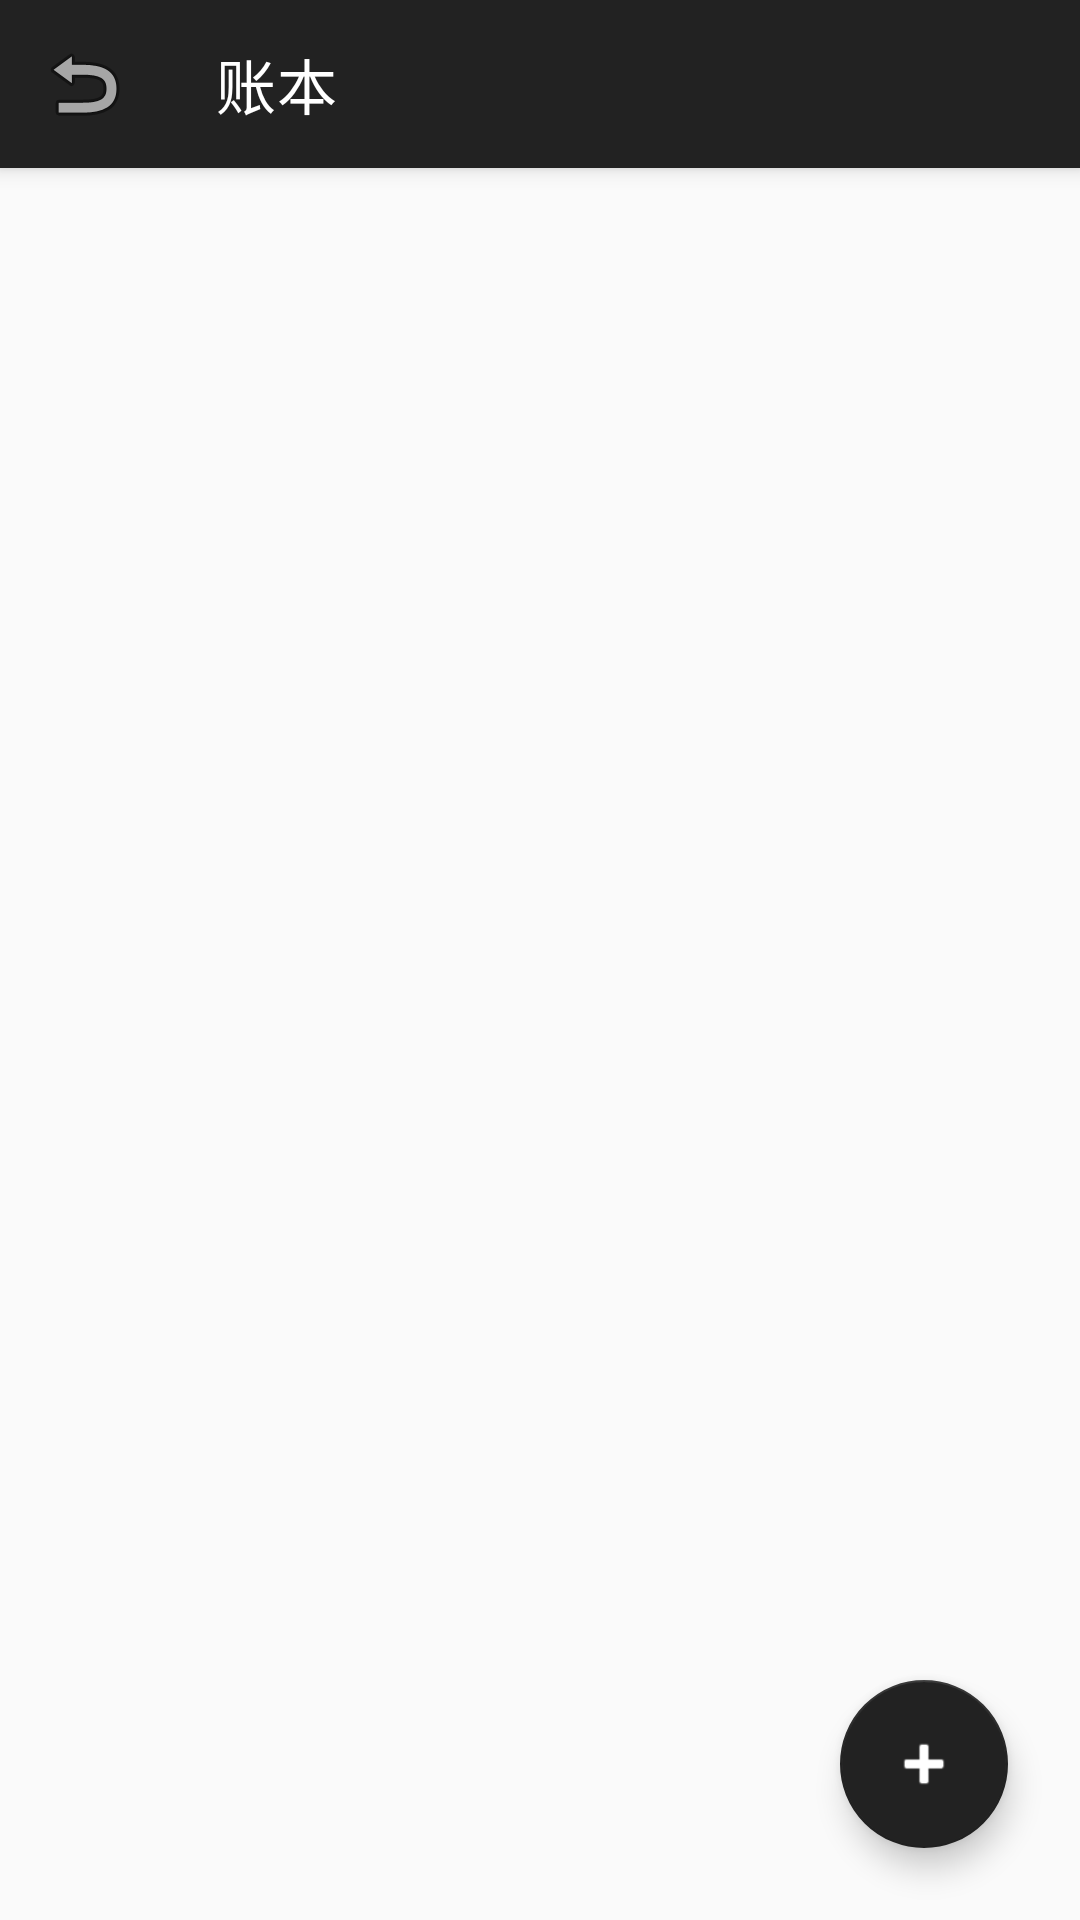

Where icons sit on this 1080px x 1920px app screen, as (x1, y1, x2, y2):
新建账本: (840, 1680, 1008, 1848)
